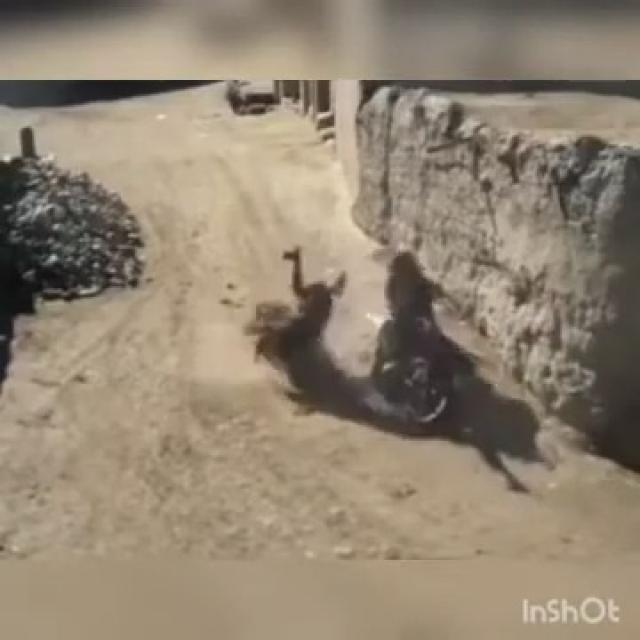accident: (357, 246, 471, 429), (256, 242, 356, 386)
